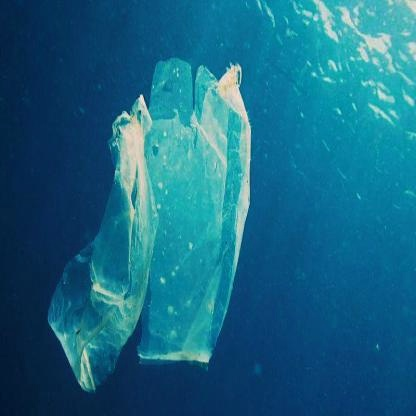pbag: (132, 47, 261, 376), (46, 89, 162, 398)
